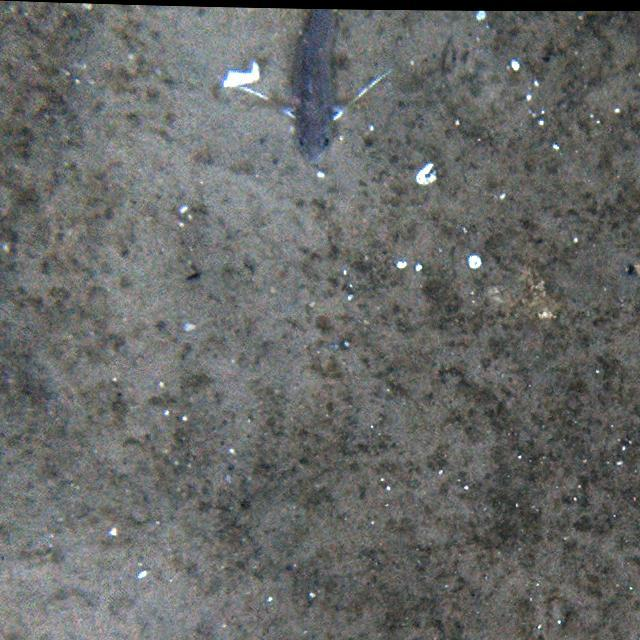roundfish: (265, 15, 373, 165)
